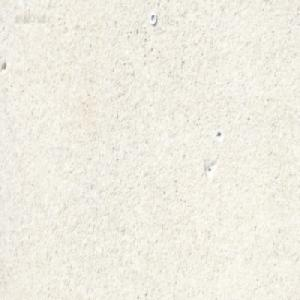Washer: (149, 11, 157, 25)
